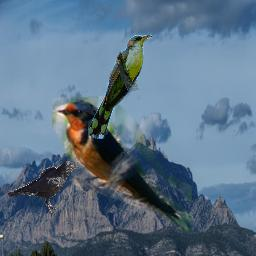Crow: (7, 161, 80, 218)
Cuckoo: (88, 35, 152, 139)
Swallow: (52, 96, 192, 232)
